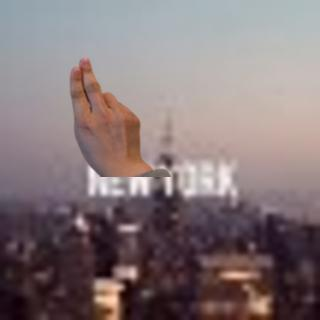DHAVE: (62, 52, 144, 171)
